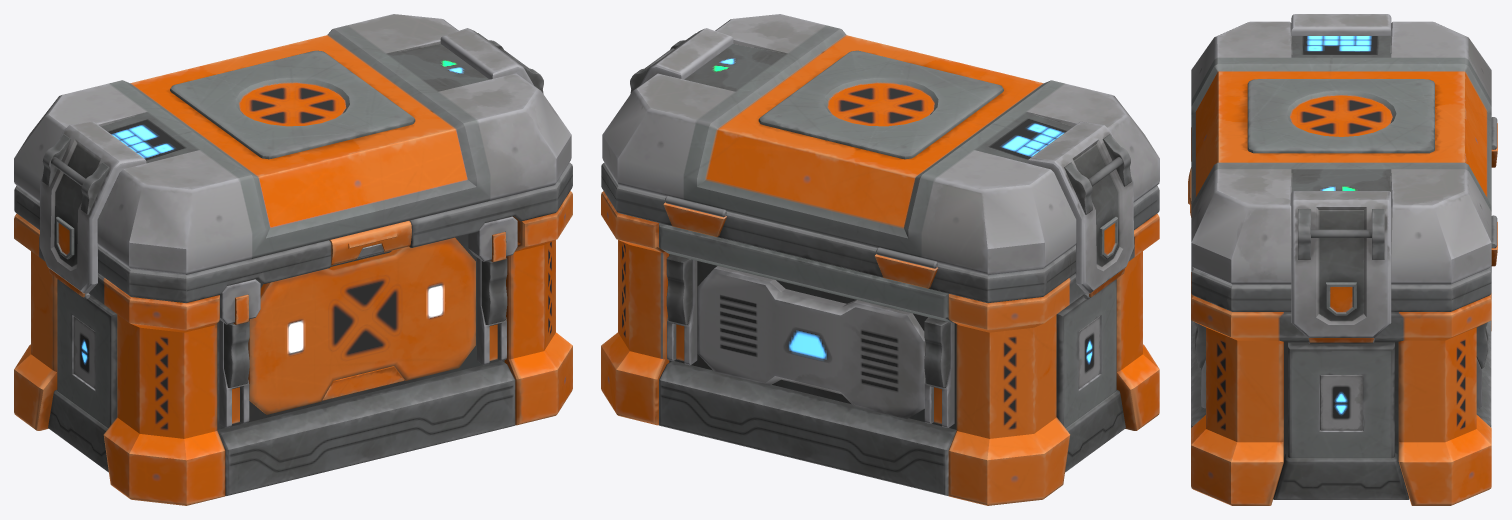
File: Futuristic_Chest_1.gltf
The picture shows the model from 3 angles, left to right: view 1: azimuth 30°, elevation 25°; view 2: azimuth 150°, elevation 25°; view 3: azimuth 270°, elevation 25°; orthographic projection. The views are drawn at different scales.
Parts seen in each view (by area): view 1: Futurist_Chest_1, Futurist_Chest_1_1, Futurist_Chest_1_2, Futurist_Chest_1_3; view 2: Futurist_Chest_1, Futurist_Chest_1_1, Futurist_Chest_1_2, Futurist_Chest_1_3; view 3: Futurist_Chest_1_1, Futurist_Chest_1, Futurist_Chest_1_3, Futurist_Chest_1_2.
Part boxes in pixels (x1,y1,x2,y2): Futurist_Chest_1: [14, 162, 572, 505]; Futurist_Chest_1_1: [14, 14, 571, 274]; Futurist_Chest_1_2: [39, 121, 146, 299]; Futurist_Chest_1_3: [440, 28, 543, 93]; Futurist_Chest_1: [601, 162, 1159, 505]; Futurist_Chest_1_1: [602, 14, 1159, 274]; Futurist_Chest_1_2: [1027, 121, 1134, 299]; Futurist_Chest_1_3: [630, 28, 733, 93]; Futurist_Chest_1_1: [1191, 21, 1497, 284]; Futurist_Chest_1: [1188, 123, 1497, 505]; Futurist_Chest_1_3: [1291, 191, 1391, 343]; Futurist_Chest_1_2: [1291, 14, 1391, 35].
Bounding box in the file's own units: 0.6772 × 0.4366 × 0.4127.
1 material, 1 textured.
